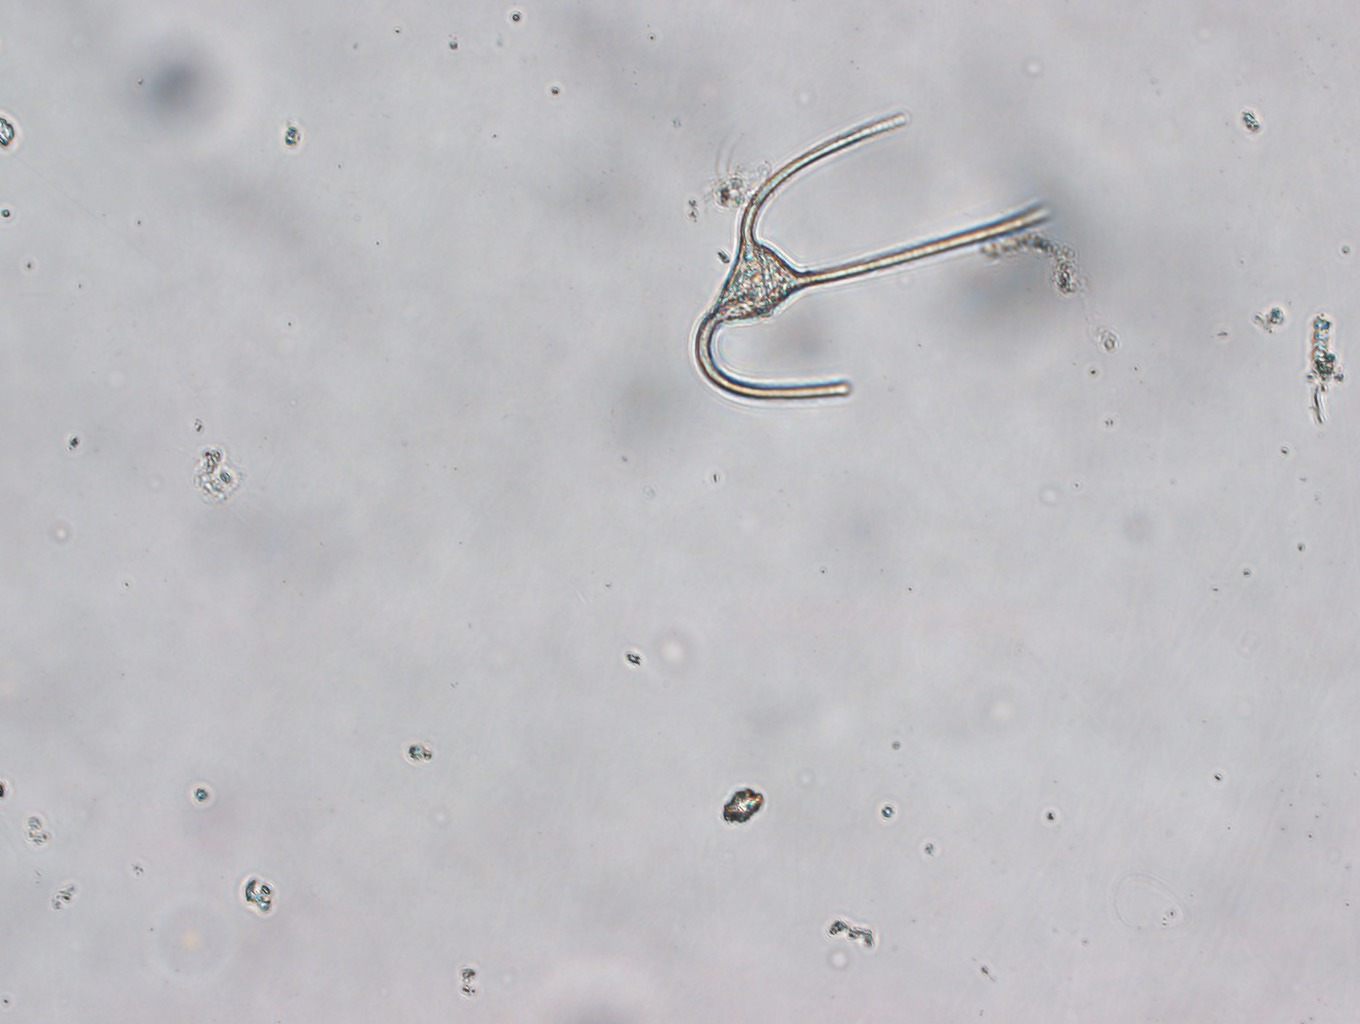ceratium trichoceros: (692, 111, 1053, 402)
